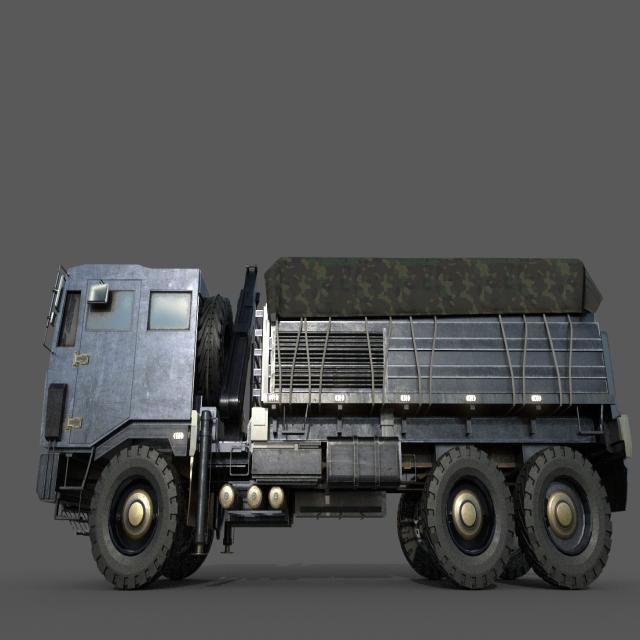truck: (38, 259, 631, 587)
